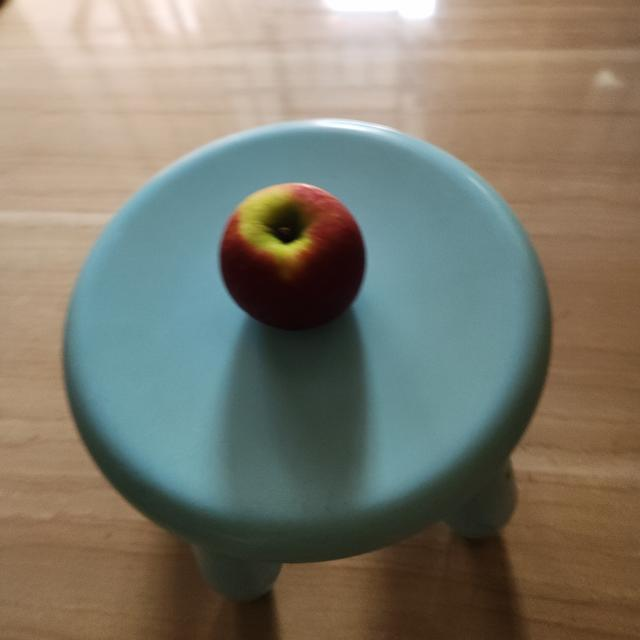apple: (212, 178, 372, 342)
